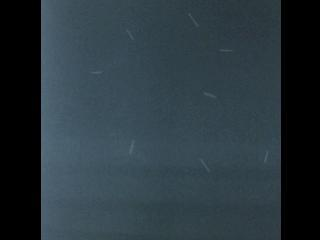scratch: (191, 153, 217, 177), (211, 40, 241, 60), (183, 7, 205, 33), (121, 135, 141, 161), (257, 143, 275, 169), (123, 24, 141, 48), (199, 86, 221, 105), (86, 65, 108, 81)
